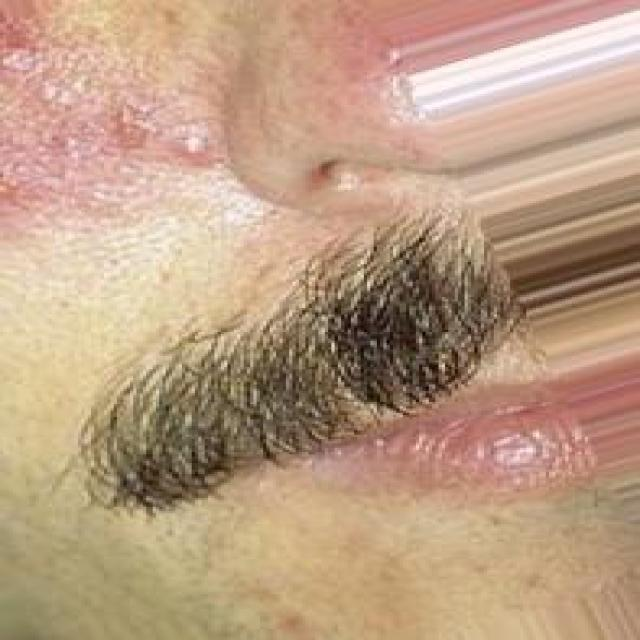Rosacea: (0, 12, 217, 206), (316, 24, 416, 126)
